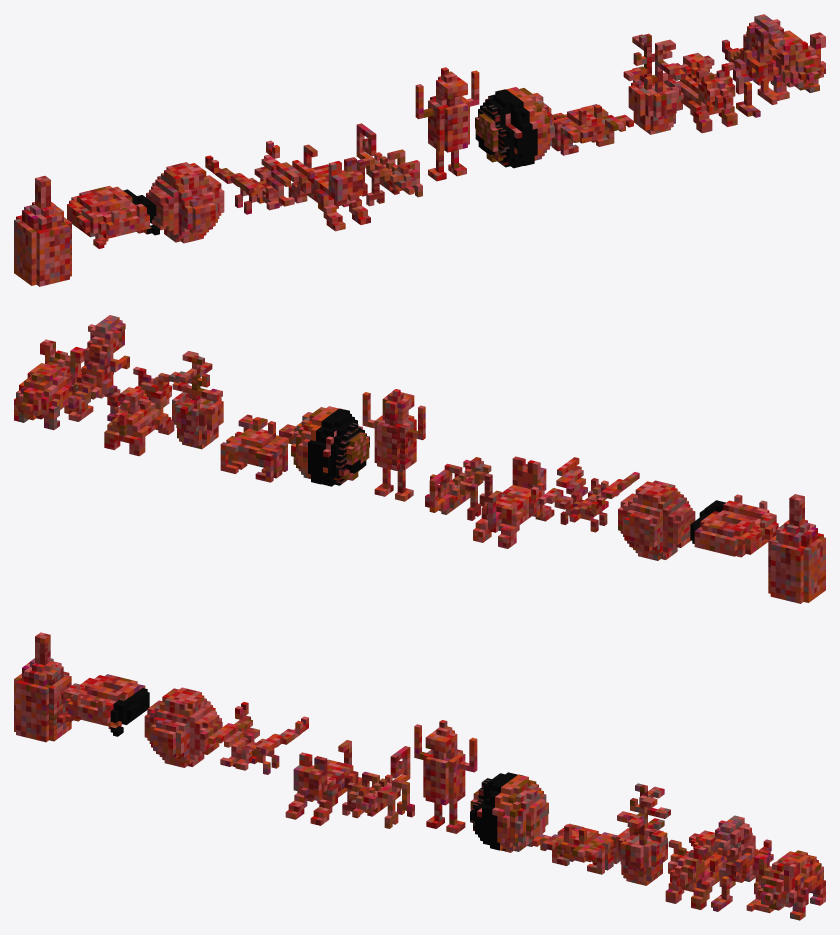
The model's file is characters_red.dae.
The picture shows the model from 3 angles, top to bottom: view 1: azimuth 30°, elevation 25°; view 2: azimuth 150°, elevation 25°; view 3: azimuth 330°, elevation 25°; orthographic projection.
Visible parts, largest first — view 1: deathstar_1, soju_1, minimonster_1, bender_1, leonplant_1, vacuumrobot_1, tyranno_1, cat_1, robotcogi_1, butterfly_1, chameleon_1, hamster_1 (+1 smaller); view 2: deathstar_1, soju_1, minimonster_1, bender_1, vacuumrobot_1, tyranno_1, hamster_1, robotcogi_1, cat_1, leonplant_1, crab_1, butterfly_1 (+1 smaller); view 3: deathstar_1, minimonster_1, soju_1, bender_1, leonplant_1, vacuumrobot_1, hamster_1, cat_1, tyranno_1, chameleon_1, butterfly_1, robotcogi_1 (+1 smaller).
Boxes of the visible parts, box(x1,y1,x2,y2) form: deathstar_1: box(475, 87, 554, 168); soju_1: box(14, 176, 71, 286); minimonster_1: box(146, 162, 224, 243); bender_1: box(415, 67, 479, 181); leonplant_1: box(623, 33, 685, 134); vacuumrobot_1: box(67, 185, 159, 248); tyranno_1: box(722, 14, 788, 117); cat_1: box(288, 144, 370, 231); robotcogi_1: box(675, 53, 737, 133); butterfly_1: box(205, 140, 314, 214); chameleon_1: box(356, 123, 422, 206); hamster_1: box(753, 30, 825, 100); deathstar_1: box(291, 406, 369, 486); soju_1: box(768, 494, 825, 603); minimonster_1: box(618, 480, 695, 560); bender_1: box(362, 389, 425, 501); vacuumrobot_1: box(690, 494, 778, 557); tyranno_1: box(66, 315, 129, 421); hamster_1: box(14, 339, 84, 429); robotcogi_1: box(104, 366, 174, 456); cat_1: box(473, 456, 554, 548); leonplant_1: box(169, 351, 223, 449); crab_1: box(220, 414, 295, 482); butterfly_1: box(531, 457, 639, 532); deathstar_1: box(470, 772, 548, 852); minimonster_1: box(144, 687, 221, 767); soju_1: box(14, 632, 71, 742); bender_1: box(414, 720, 477, 833); leonplant_1: box(616, 783, 670, 885); vacuumrobot_1: box(57, 674, 149, 736); hamster_1: box(754, 850, 825, 920); cat_1: box(285, 740, 361, 825); tyranno_1: box(710, 815, 773, 911); chameleon_1: box(342, 746, 414, 828); butterfly_1: box(200, 702, 308, 774); robotcogi_1: box(665, 830, 735, 909).
Size of the model in its own units: 156 by 21 by 19.
Materials: 1 (1 with a texture image).
